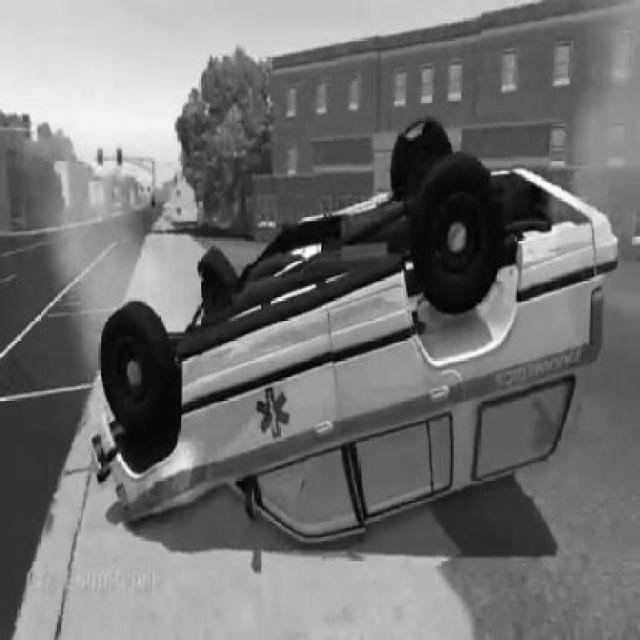accident: (97, 106, 613, 550)
